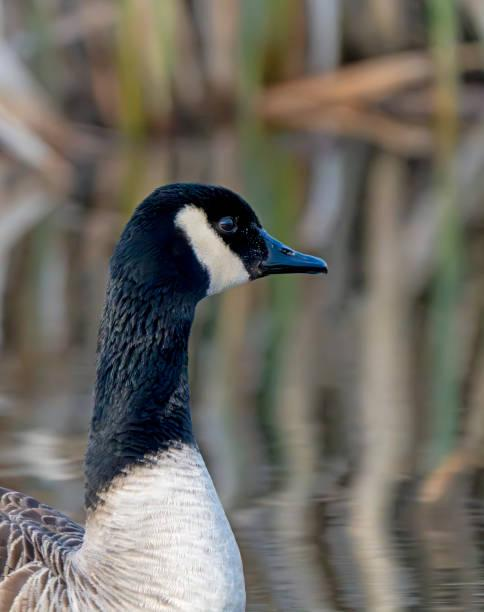Canadian-Goose: (3, 179, 337, 612)
